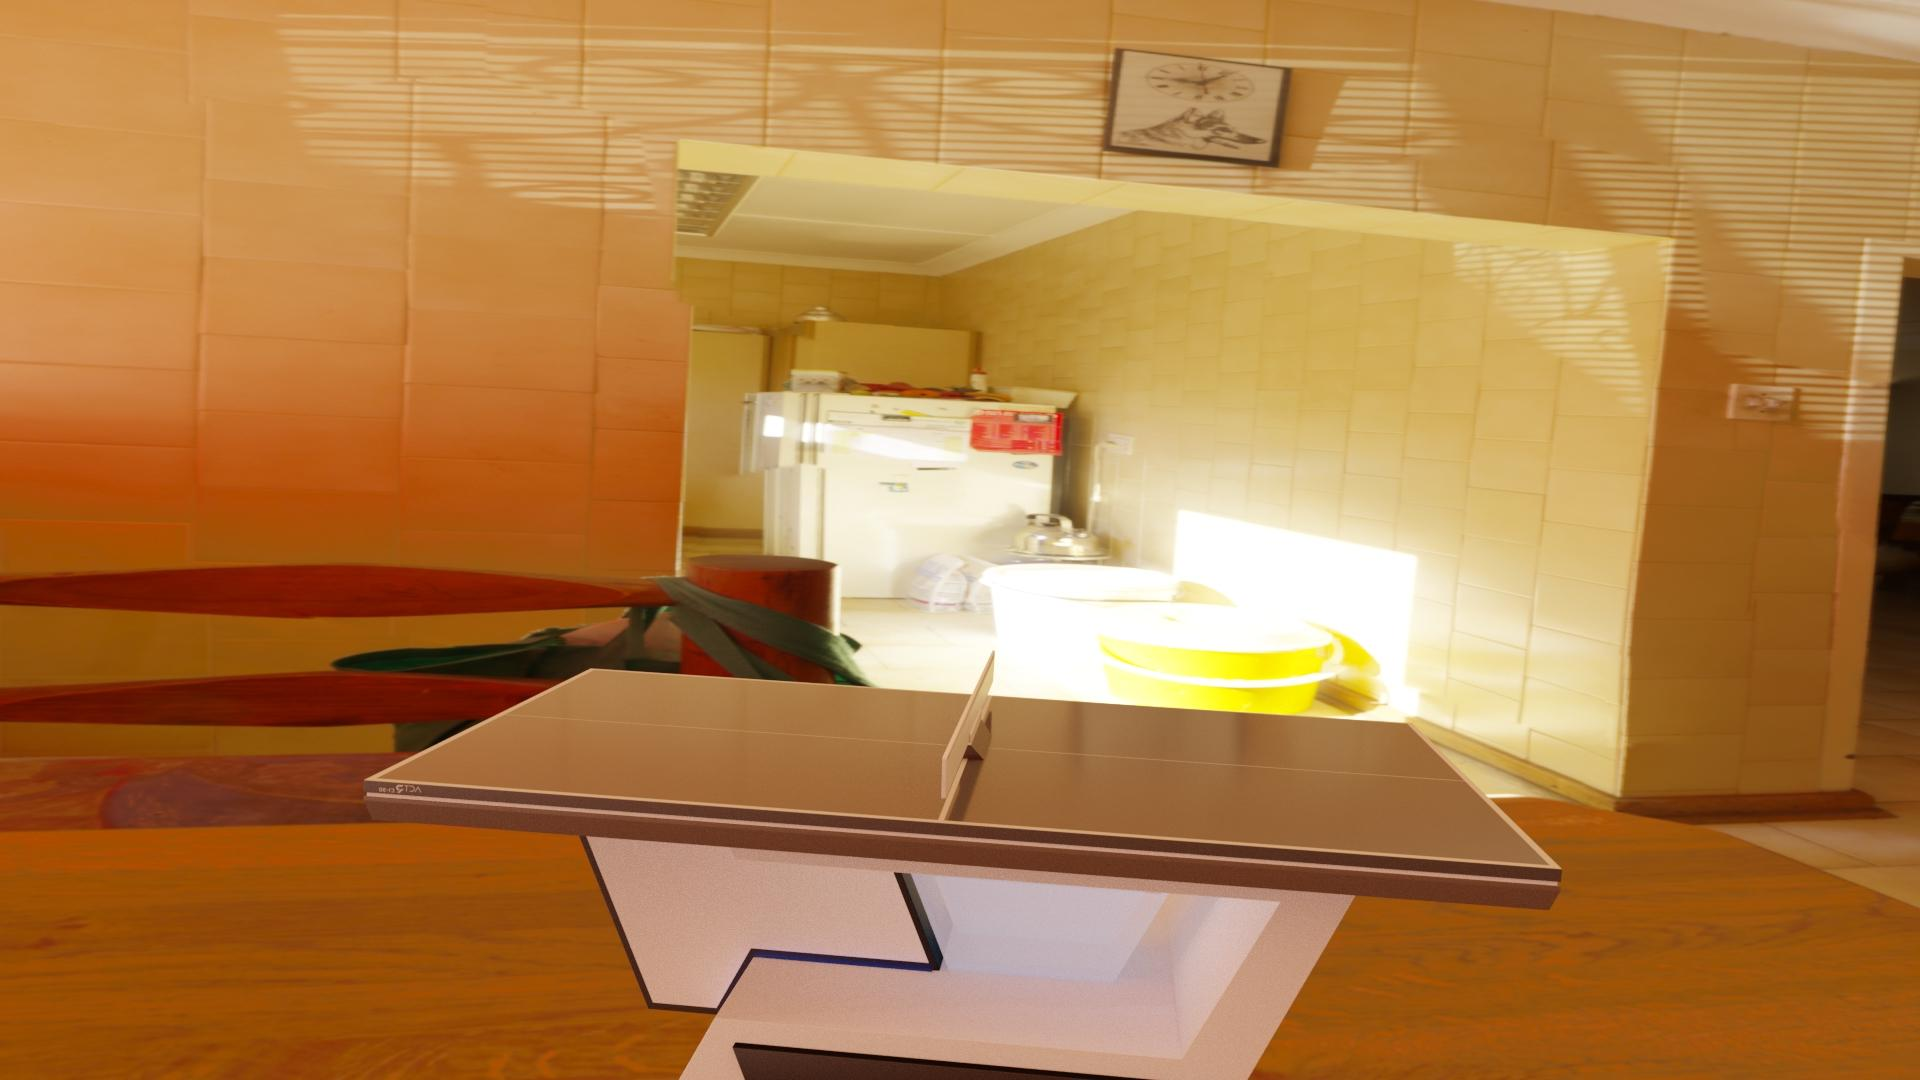table: (376, 670, 1549, 865)
